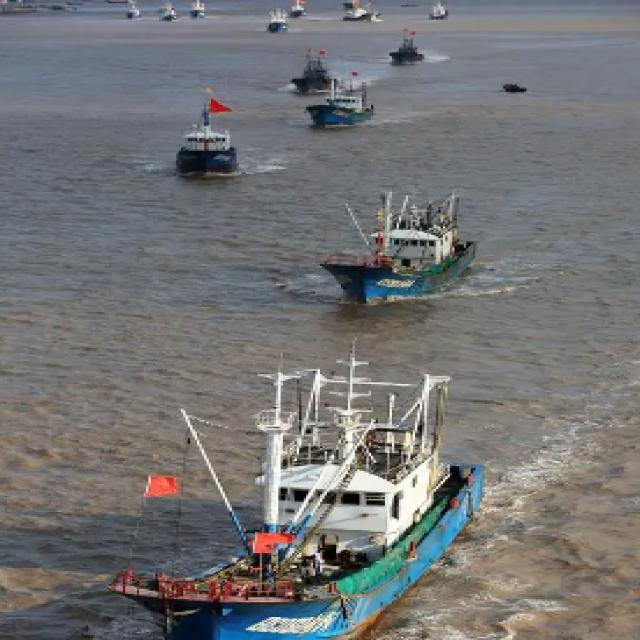fishing boat: (106, 341, 492, 640), (324, 186, 480, 302), (169, 83, 243, 177), (318, 70, 386, 121), (283, 48, 344, 89), (388, 25, 430, 69), (341, 0, 388, 21), (424, 0, 457, 18), (267, 9, 292, 32), (160, 0, 181, 25), (190, 0, 218, 18), (130, 0, 144, 25), (292, 0, 306, 13), (102, 0, 135, 5)
